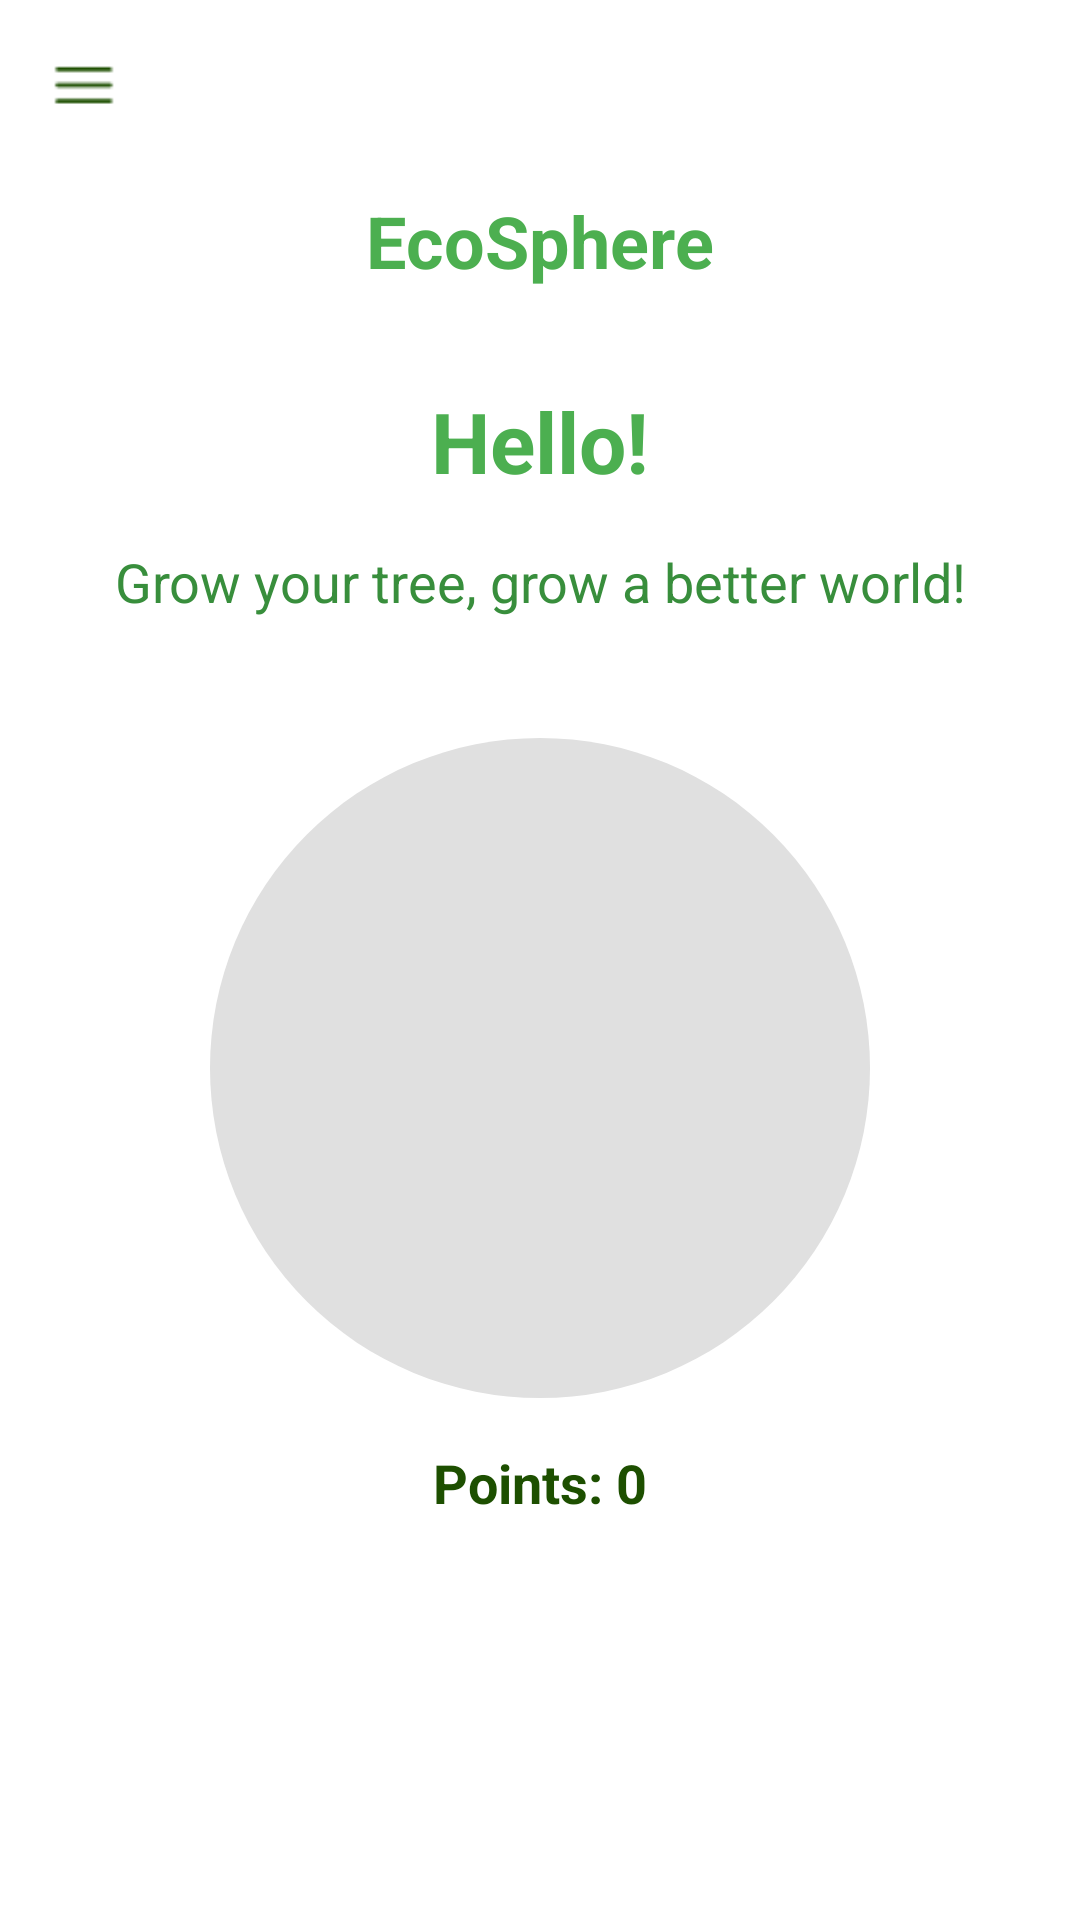

Locate icon controls on the screen. Image size 1080w x 1920h, boxes as (x1, y1, x2, y2).
Menu: (54, 66, 114, 104)
